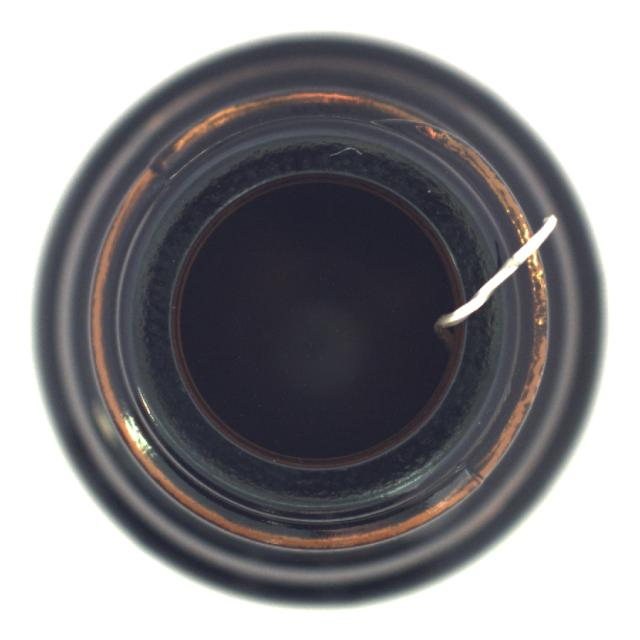bad-contamination: (29, 31, 609, 611)
